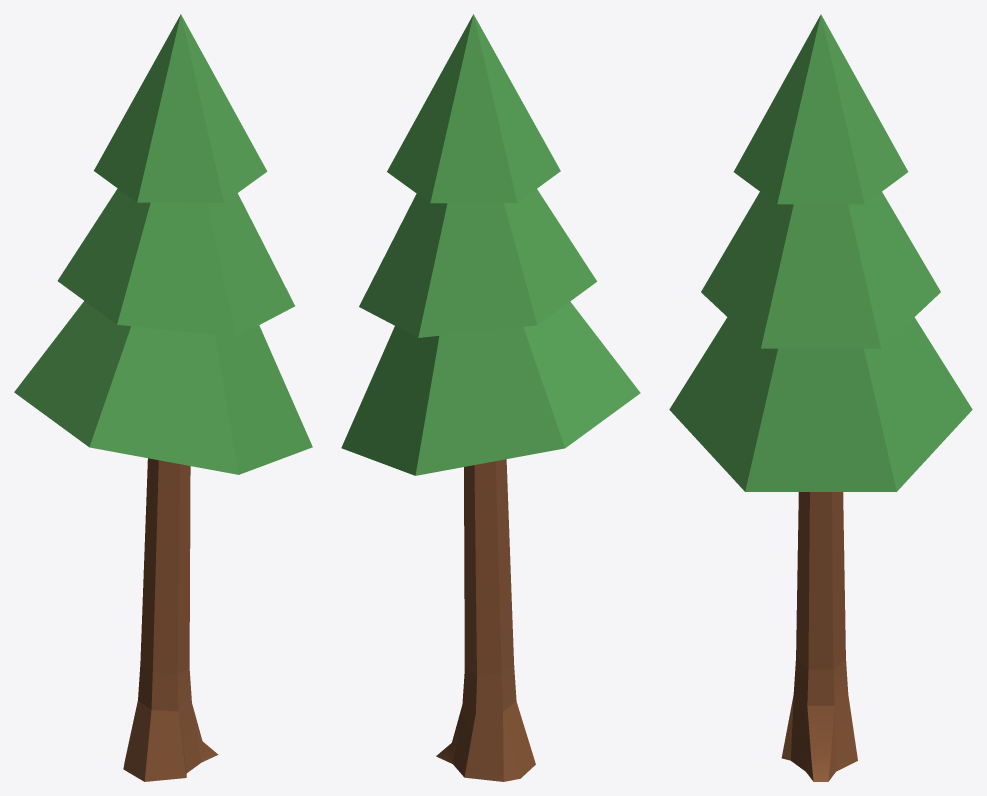
Rendered from fir_01.fbx.
The picture shows the model from 3 angles, left to right: view 1: azimuth 30°, elevation 25°; view 2: azimuth 150°, elevation 25°; view 3: azimuth 270°, elevation 25°; orthographic projection.
Parts seen in each view (by area): view 1: fir_01; view 2: fir_01; view 3: fir_01.
Boxes of the visible parts, x1=… form: fir_01: x1=14, y1=14, x2=312, y2=781; fir_01: x1=341, y1=14, x2=640, y2=781; fir_01: x1=669, y1=14, x2=972, y2=781.
Size of the model in its own units: 209 by 667 by 244.
